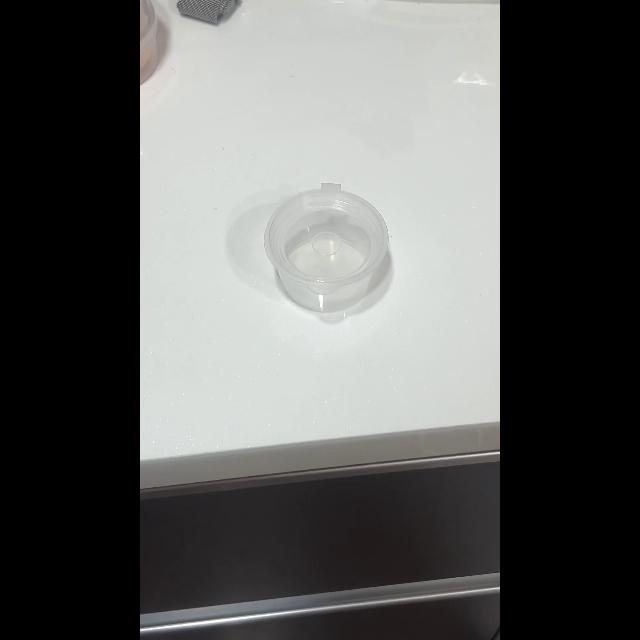clean: (264, 184, 391, 312)
